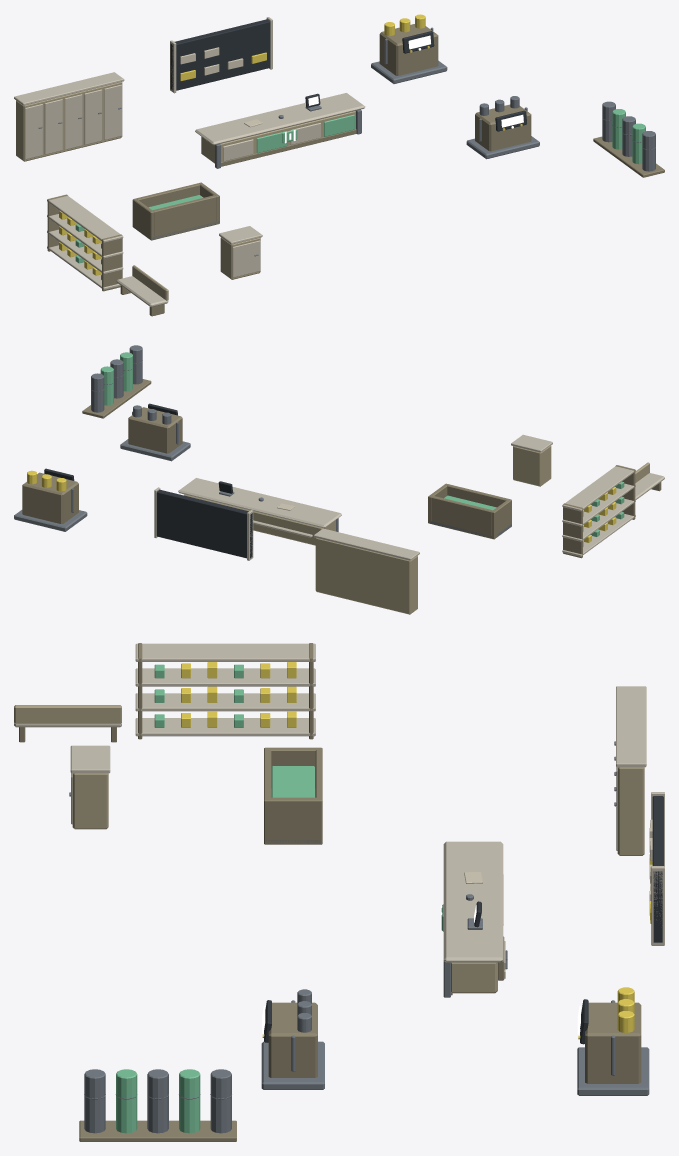
The model's file is clearbarrel_cleanup_yard.glb.
3 views of the same model, one above another, from view 1: azimuth 30°, elevation 25°; view 2: azimuth 150°, elevation 25°; view 3: azimuth 270°, elevation 25° (orthographic). The views are drawn at different scales.
Size of the model in its own units: 21.95 by 2.76 by 14.45.
